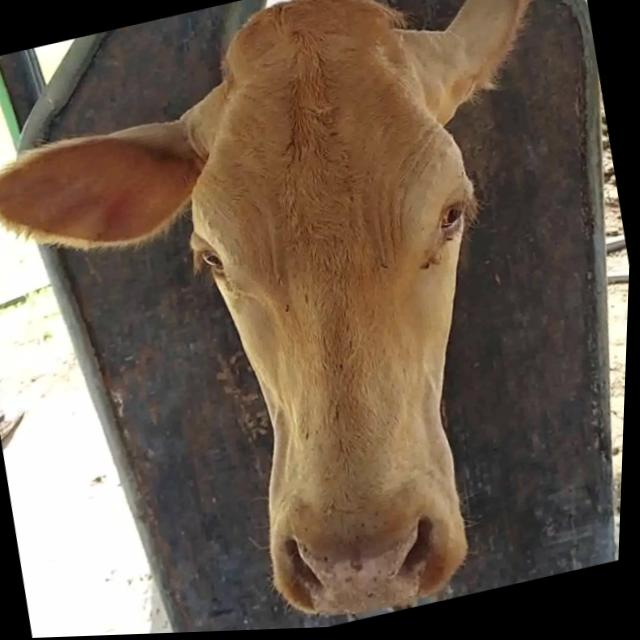cowFace: (133, 0, 552, 636)
